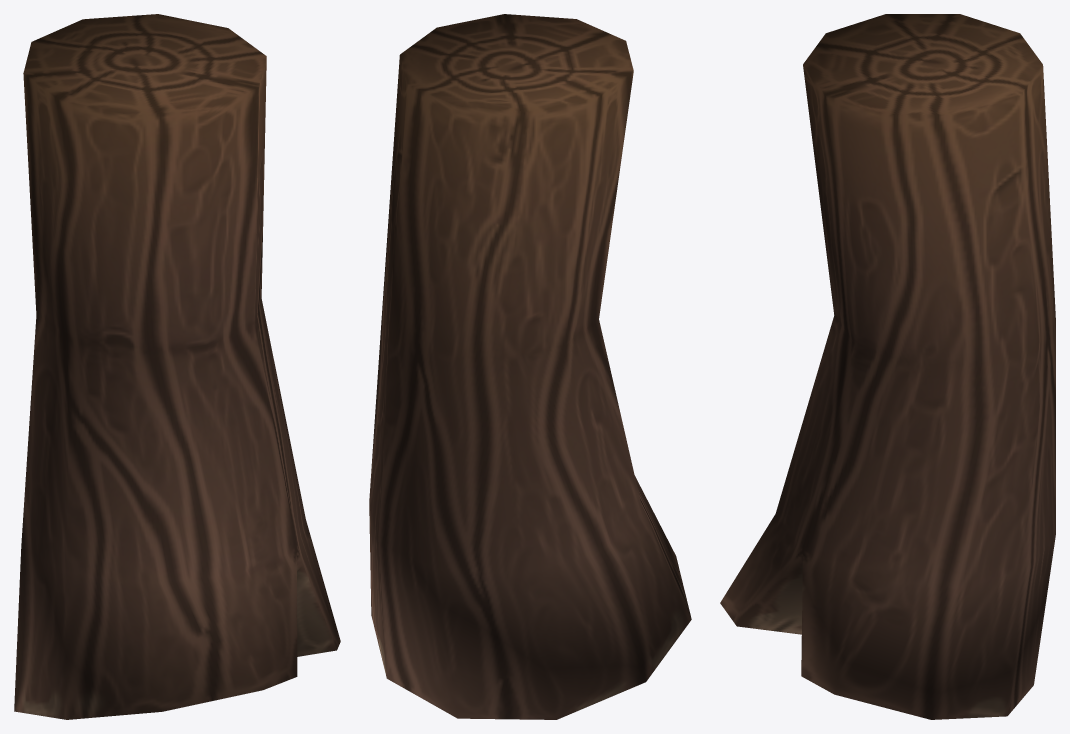
The model's file is Dummy_neck.fbx.
3 renders of one model, left to right at view 1: azimuth 30°, elevation 25°; view 2: azimuth 150°, elevation 25°; view 3: azimuth 270°, elevation 25°, orthographic. The views are drawn at different scales.
Parts seen in each view (by area): view 1: Dummy_neck; view 2: Dummy_neck; view 3: Dummy_neck.
Boxes of the visible parts, x1=… form: Dummy_neck: x1=14, y1=14, x2=340, y2=719; Dummy_neck: x1=369, y1=14, x2=691, y2=719; Dummy_neck: x1=720, y1=14, x2=1055, y2=719.
Bounding box in the file's own units: 25.66 × 55.84 × 27.37.
Materials: 1 (1 with a texture image).
